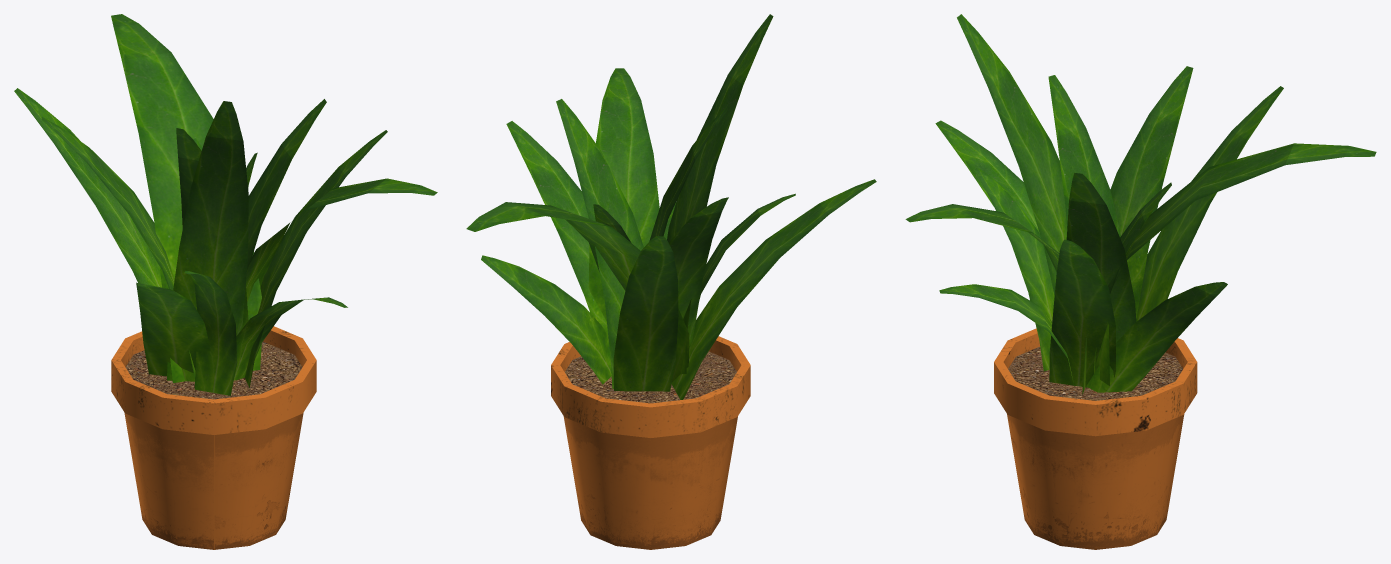
Rendered from Potplant.FBX.
3 views of the same model, side by side, from view 1: azimuth 30°, elevation 25°; view 2: azimuth 150°, elevation 25°; view 3: azimuth 270°, elevation 25° (orthographic). The views are drawn at different scales.
Visible parts, largest first — view 1: Pot, Plane003, Plane009, Plane004, Plane010, Plane011, Plane012, Plane014, Plane013, Plane007, Plane005, Plane015 (+2 smaller); view 2: Pot, Plane010, Plane015, Plane004, Plane005, Plane009, Plane014, Plane008, Plane003, Plane007, Plane013, Plane001 (+2 smaller); view 3: Pot, Plane009, Plane014, Plane007, Plane008, Plane010, Plane003, Plane005, Plane011, Plane001, Plane013, Plane004 (+4 smaller).
Boxes of the visible parts, x1,y1,x2,y2 form: Pot: (111, 326, 316, 549); Plane003: (111, 14, 261, 382); Plane009: (167, 101, 248, 381); Plane004: (136, 282, 210, 376); Plane010: (14, 88, 161, 287); Plane011: (184, 271, 237, 395); Plane012: (112, 14, 261, 378); Plane014: (244, 130, 387, 387); Plane013: (167, 102, 248, 381); Plane007: (41, 117, 195, 378); Plane005: (247, 99, 326, 265); Plane015: (246, 178, 437, 301); Pot: (551, 336, 750, 549); Plane010: (613, 236, 678, 391); Plane015: (588, 68, 659, 320); Plane004: (671, 179, 876, 399); Plane005: (556, 99, 643, 388); Plane009: (667, 14, 773, 374); Plane014: (506, 121, 611, 373); Plane008: (481, 255, 611, 384); Plane003: (466, 202, 689, 382); Plane007: (669, 197, 728, 345); Plane013: (667, 16, 771, 373); Plane001: (649, 107, 727, 241); Pot: (994, 328, 1197, 549); Plane009: (957, 14, 1067, 293); Plane014: (1049, 239, 1115, 387); Plane007: (1110, 66, 1193, 318); Plane008: (1086, 282, 1227, 392); Plane010: (1136, 86, 1283, 383); Plane003: (1082, 143, 1376, 393); Plane005: (1066, 173, 1136, 342); Plane011: (973, 167, 1054, 371); Plane001: (1048, 75, 1120, 236); Plane013: (958, 15, 1066, 294); Plane004: (935, 120, 1039, 232).
Bounding box in the file's own units: 38.01 × 55.76 × 49.84.
